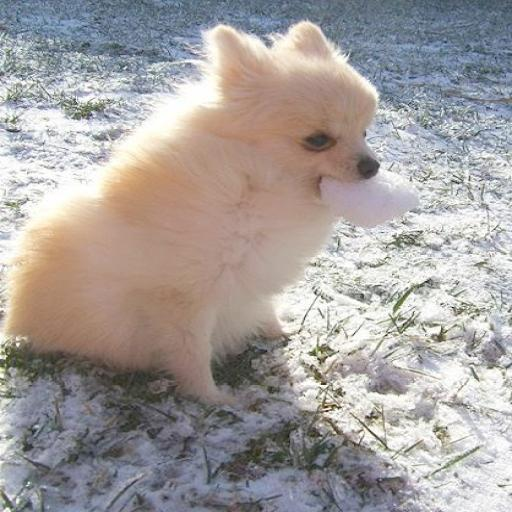dog_face: (206, 21, 403, 213)
